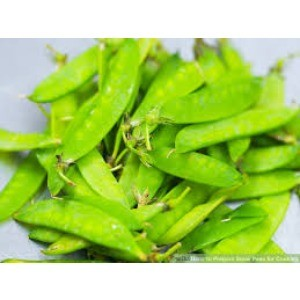green pea_brain food: (78, 79, 260, 211)
